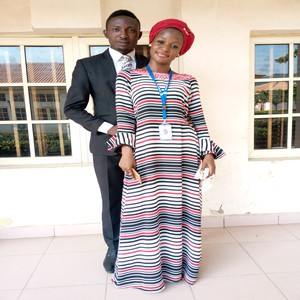Fulokoja_female_student: (148, 24, 206, 276)
Fulokoja_male_student: (74, 7, 144, 67)
